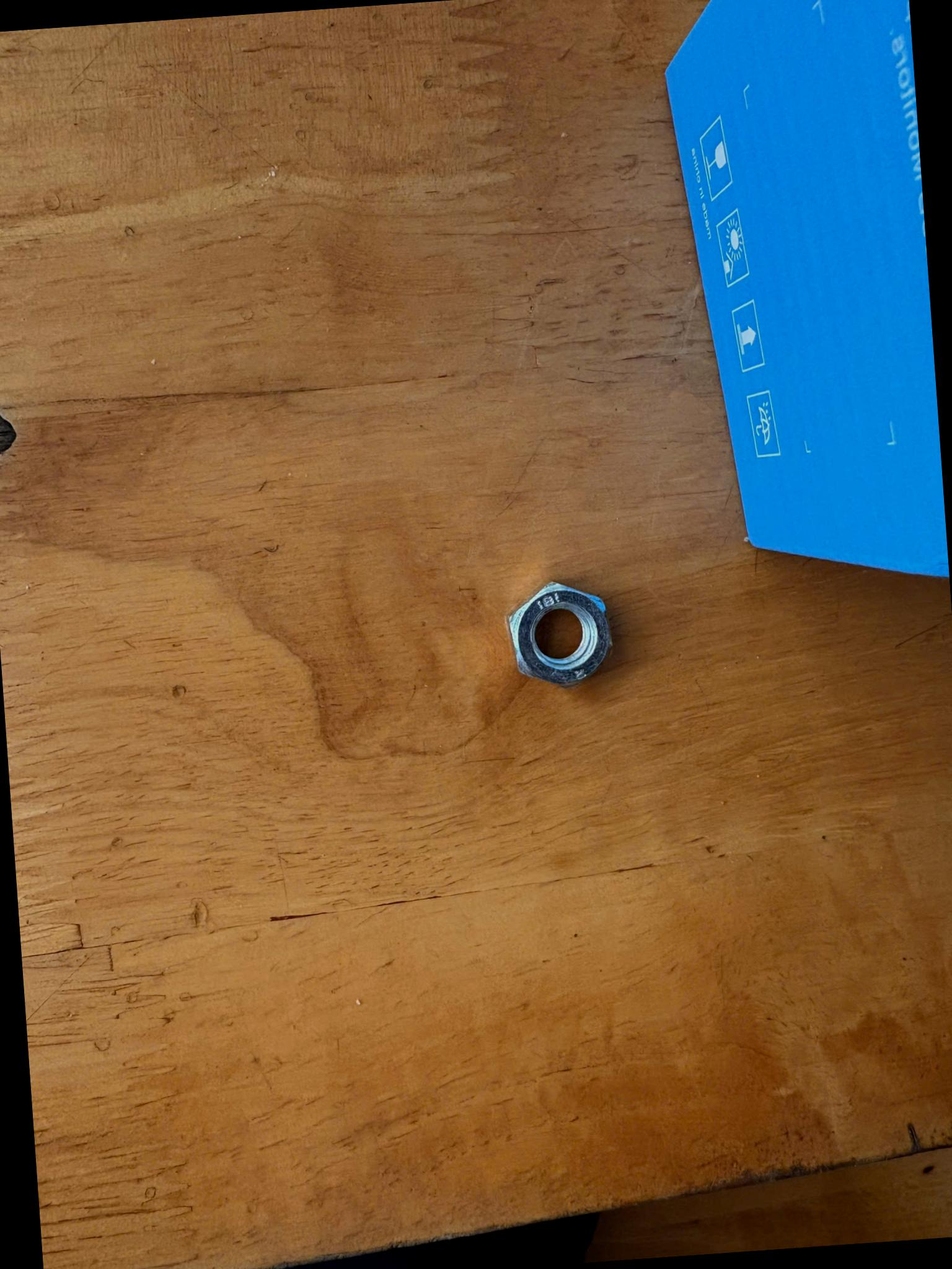nut: (486, 571, 622, 709)
